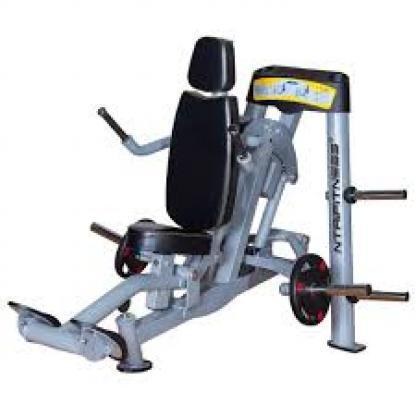seated dip machine: (8, 37, 412, 374)
